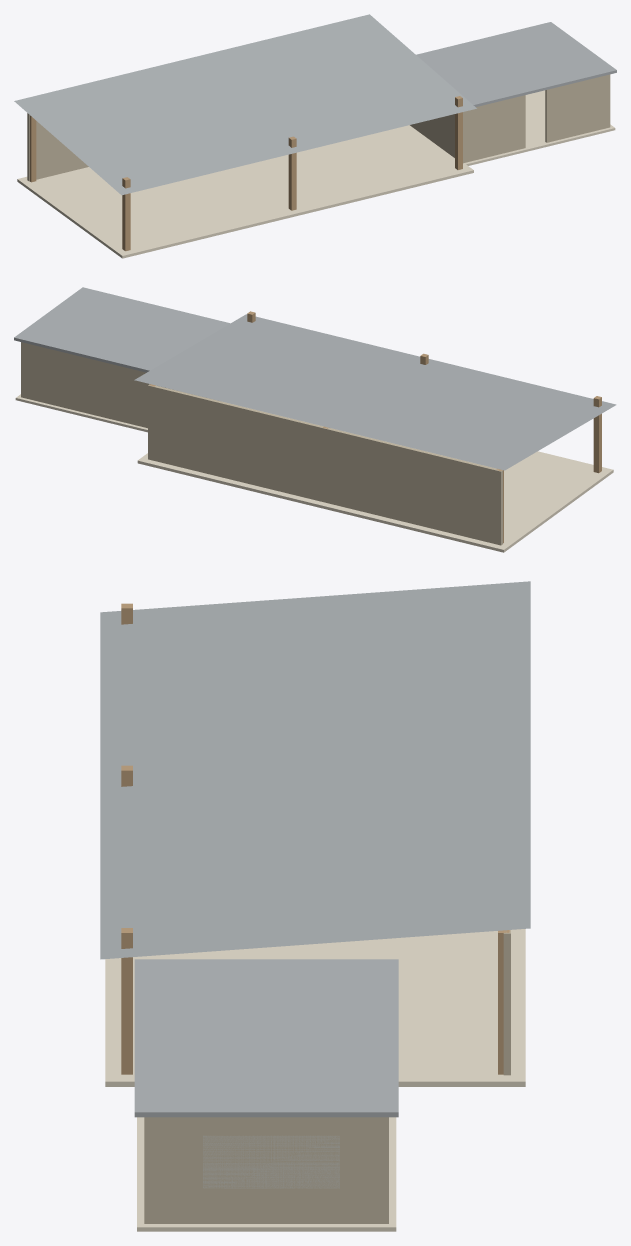
The model's file is agricultural-hub.lod1.glb.
3 renders of one model, top to bottom at view 1: azimuth 30°, elevation 25°; view 2: azimuth 150°, elevation 25°; view 3: azimuth 270°, elevation 25°, orthographic. The views are drawn at different scales.
Size of the model in its own units: 23.8 by 3.62 by 8.8.
